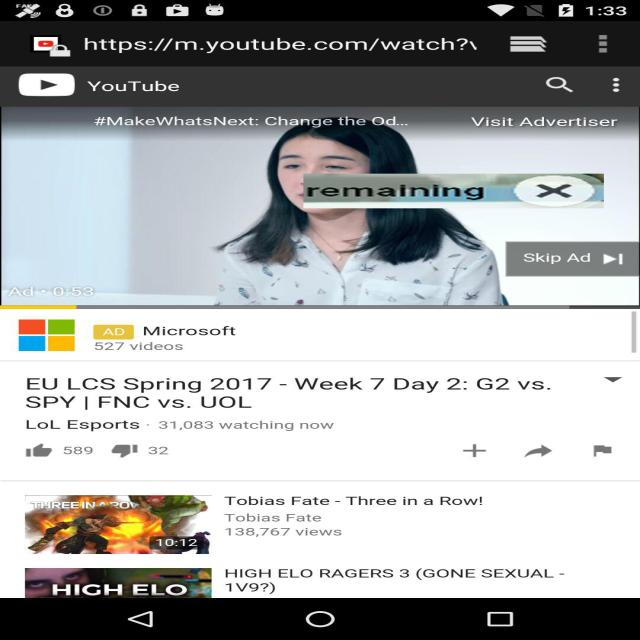misdirection: (303, 174, 604, 208)
